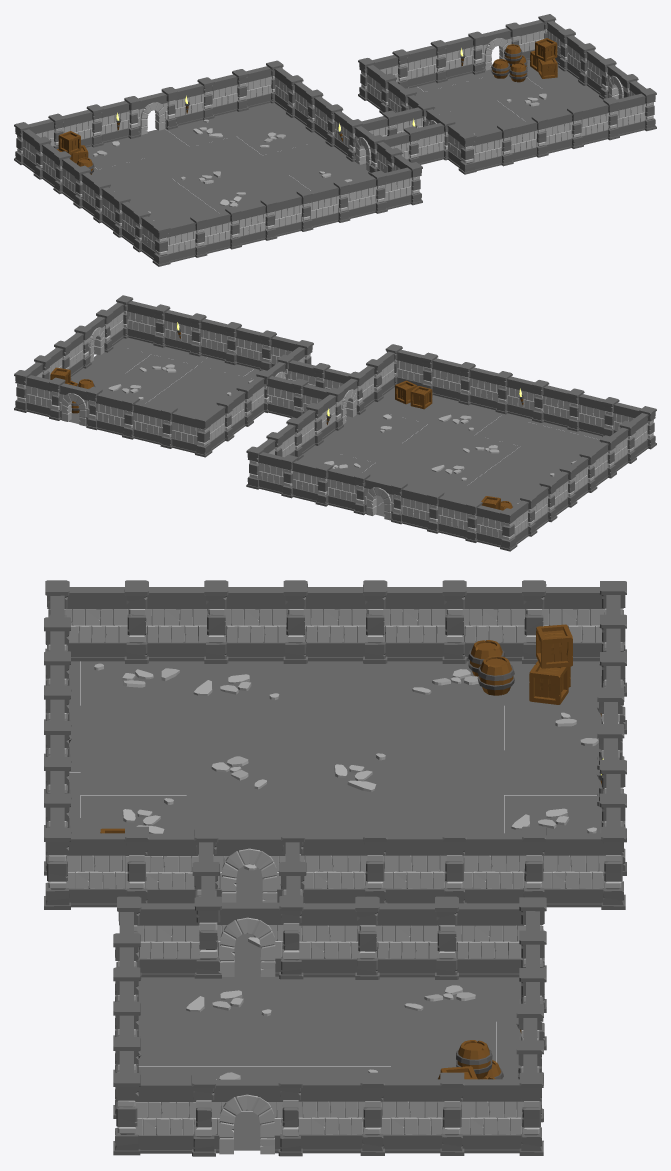
File: my_dungeon.glb
3 views of the same model, one above another, from view 1: azimuth 30°, elevation 25°; view 2: azimuth 150°, elevation 25°; view 3: azimuth 270°, elevation 25° (orthographic). The views are drawn at different scales.
Visible parts, largest first — view 1: wall.028_124, wall.058_145, wall.062_149, wall.049_140, wall.027_123, wall.023_119, wall.061_148, wall.010_106, wall.026_122, wall.013_109, wall.048_139, wall.060_147 (+66 smaller); view 2: wall.049_140, wall.014_110, wall.016_112, wall.051_141, wall.013_109, wall.048_139, wall.027_123, wall.010_106, wall.060_147, wall.028_124, wall.061_148, wall.026_122 (+68 smaller); view 3: wall.052_142, wall.044_135, wall.047_138, wall.008_104, wall.065_150, wall.019_115, wall.018_114, wall.053_143, wall.020_116, wall.021_117, wall.046_137, wall.009_105 (+77 smaller).
Boxes of the visible parts, <box> form: wall.028_124: <box>347,170,387,218</box>; wall.058_145: <box>471,123,513,170</box>; wall.062_149: <box>616,88,656,135</box>; wall.049_140: <box>392,45,437,88</box>; wall.027_123: <box>310,179,350,227</box>; wall.023_119: <box>167,214,207,262</box>; wall.061_148: <box>580,97,619,144</box>; wall.010_106: <box>161,83,205,129</box>; wall.026_122: <box>274,188,313,236</box>; wall.013_109: <box>86,101,130,147</box>; wall.048_139: <box>430,36,474,83</box>; wall.060_147: <box>545,106,583,153</box>; wall.049_140: <box>133,402,177,448</box>; wall.014_110: <box>437,496,482,542</box>; wall.016_112: <box>476,505,517,551</box>; wall.051_141: <box>171,411,212,457</box>; wall.013_109: <box>399,487,444,533</box>; wall.048_139: <box>95,393,139,439</box>; wall.027_123: <box>458,362,498,410</box>; wall.010_106: <box>327,468,370,515</box>; wall.060_147: <box>189,313,227,360</box>; wall.028_124: <box>421,352,461,400</box>; wall.061_148: <box>153,304,192,352</box>; wall.026_122: <box>495,371,535,418</box>; wall.052_142: <box>435,896,523,979</box>; wall.044_135: <box>298,1072,384,1155</box>; wall.047_138: <box>460,1072,543,1155</box>; wall.008_104: <box>541,826,625,909</box>; wall.065_150: <box>380,1072,464,1155</box>; wall.019_115: <box>283,580,367,663</box>; wall.018_114: <box>363,580,446,663</box>; wall.053_143: <box>355,896,439,979</box>; wall.020_116: <box>204,580,288,663</box>; wall.021_117: <box>124,580,208,663</box>; wall.046_137: <box>134,1073,215,1156</box>; wall.009_105: <box>300,826,387,903</box>.
Bounding box in the file's own units: 45.05 × 3.07 × 22.03.
